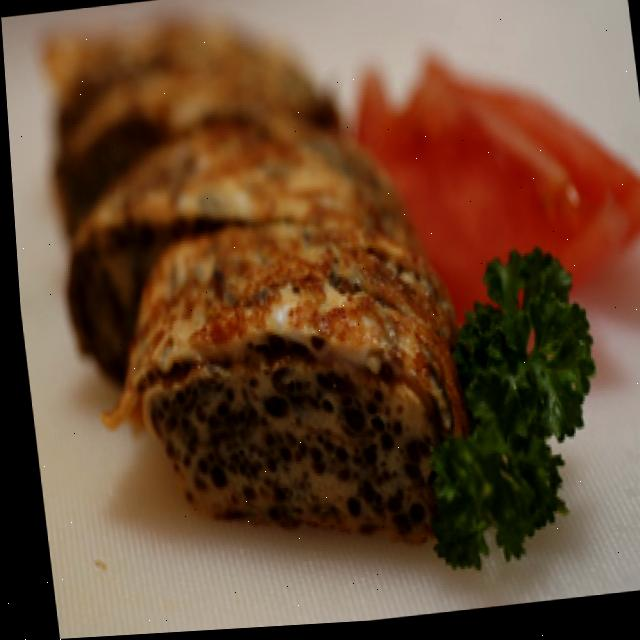鸡蛋料理: (79, 111, 491, 571)
